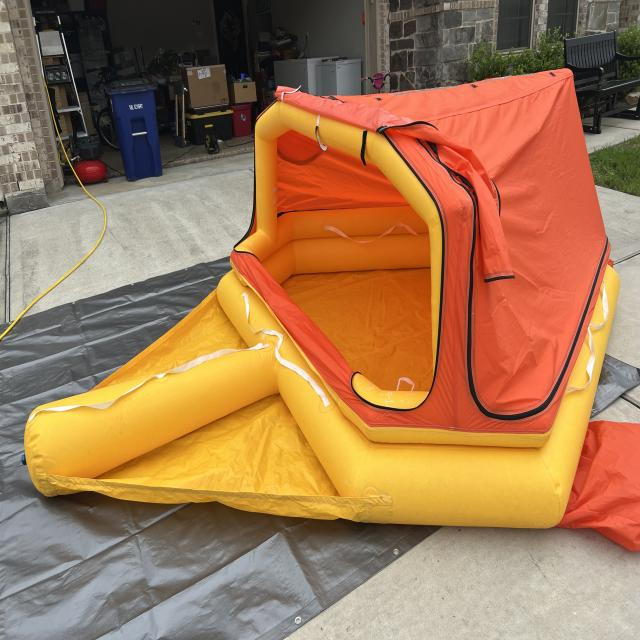Multi-person_life_raft: (24, 66, 639, 554)
